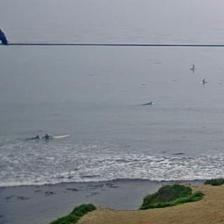surfer: (29, 135, 40, 140), (190, 64, 196, 72), (43, 134, 51, 139), (202, 79, 208, 84), (143, 102, 152, 105)
